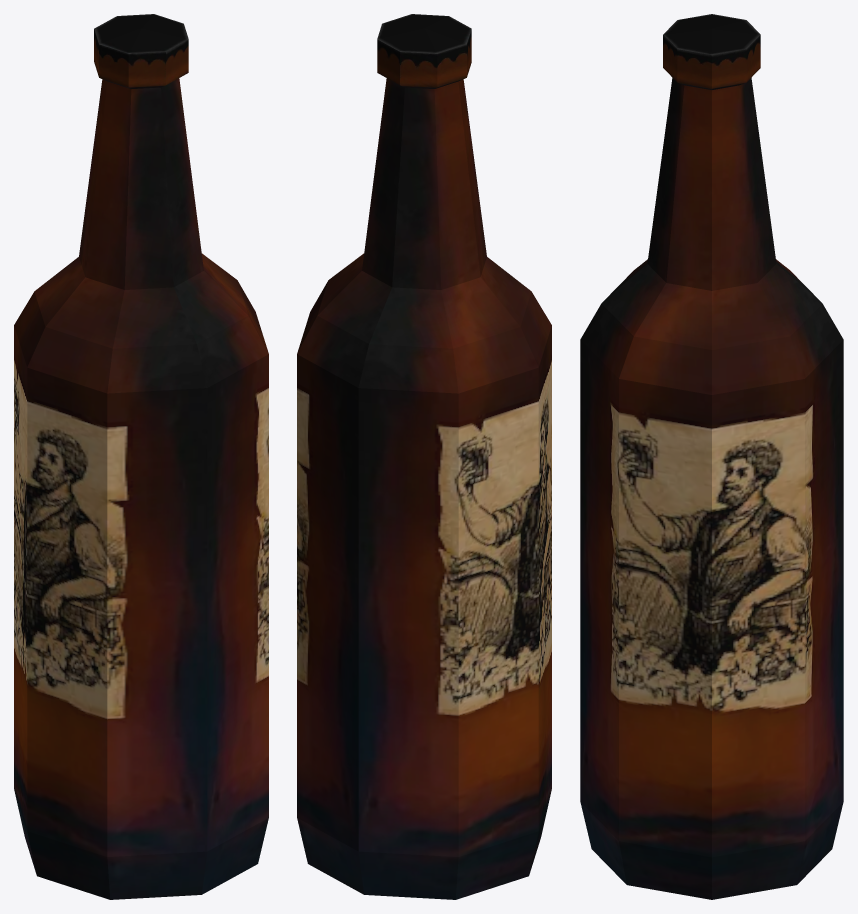
Rendered from KM_VOB_DARKBEER.glb.
The picture shows the model from 3 angles, left to right: view 1: azimuth 30°, elevation 25°; view 2: azimuth 150°, elevation 25°; view 3: azimuth 270°, elevation 25°; orthographic projection.
Visible parts, largest first — view 1: KM_VOB_DARKBEER; view 2: KM_VOB_DARKBEER; view 3: KM_VOB_DARKBEER.
Part boxes in pixels (left/top/right/bottom): KM_VOB_DARKBEER: left=14, top=14, right=268, bottom=899; KM_VOB_DARKBEER: left=297, top=14, right=551, bottom=899; KM_VOB_DARKBEER: left=580, top=14, right=843, bottom=899.
Bounding box in the file's own units: 0.091 × 0.313 × 0.091.
1 material, 1 textured.
